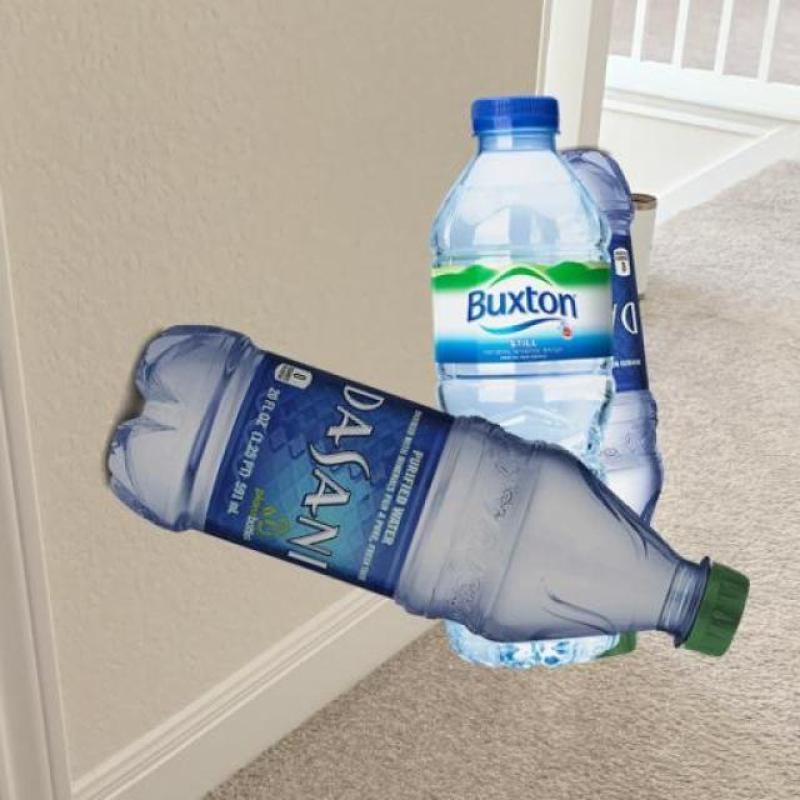botella: (110, 329, 752, 659), (426, 95, 626, 661), (550, 143, 660, 659)
